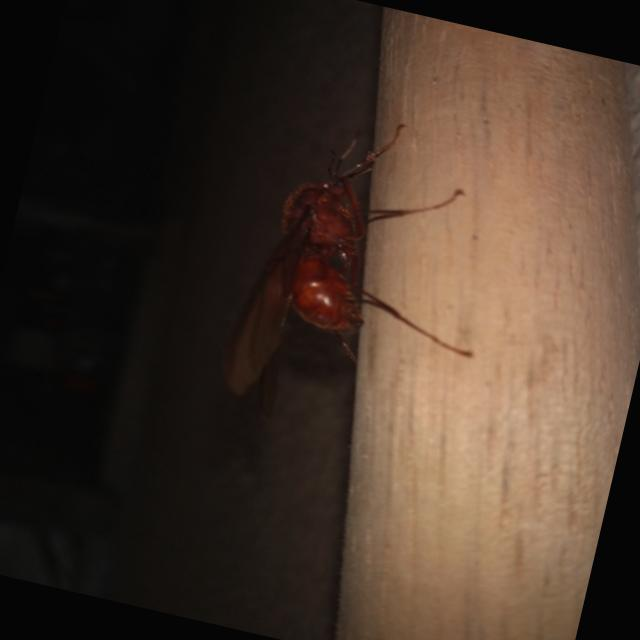Alive-Male-Alate: (208, 94, 522, 452)
